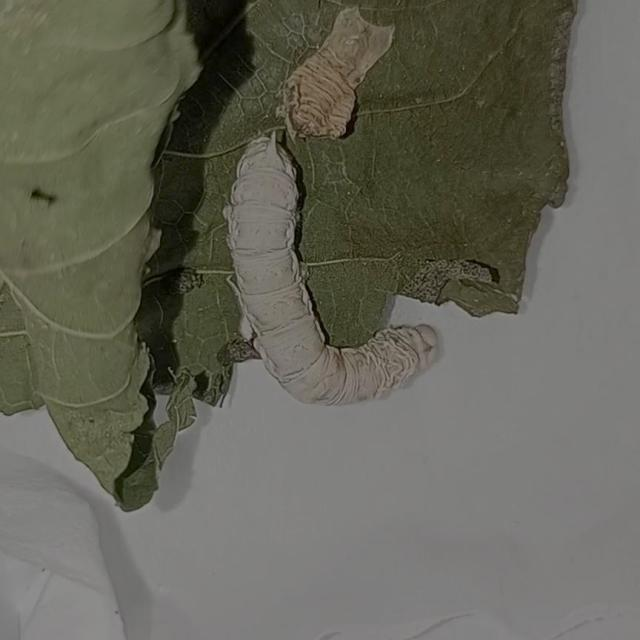Healthy: (212, 137, 443, 416)
